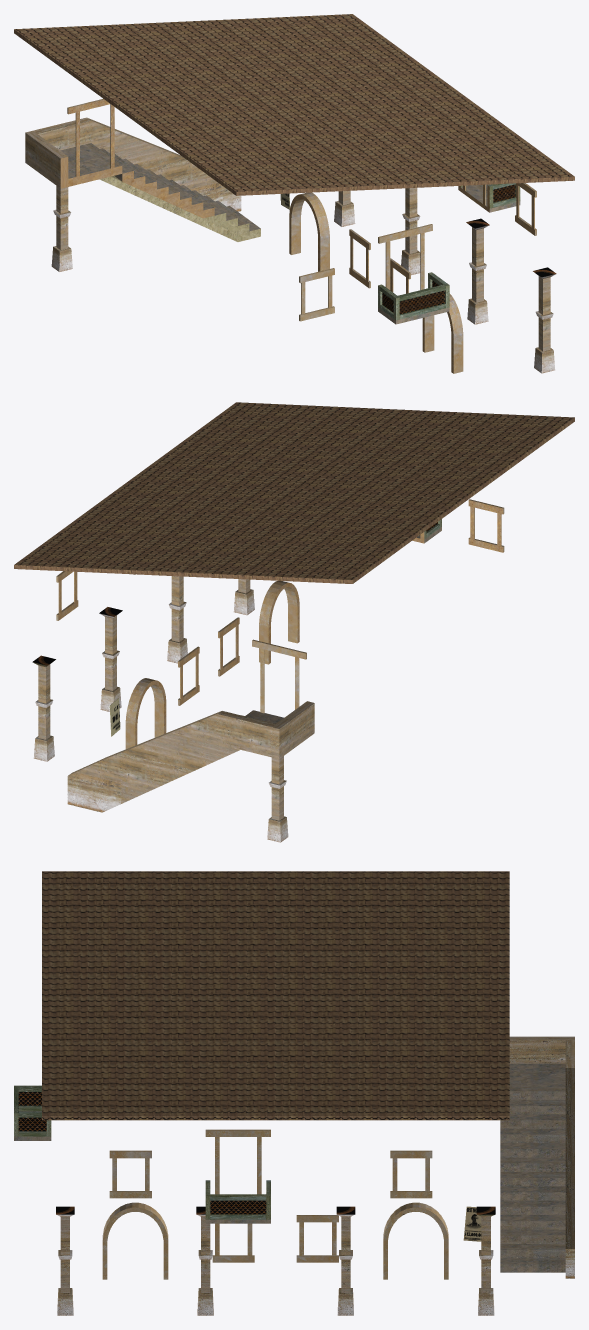
The model's file is StaticMesh10.fbx.
The picture shows the model from 3 angles, top to bottom: view 1: azimuth 30°, elevation 25°; view 2: azimuth 150°, elevation 25°; view 3: azimuth 270°, elevation 25°; orthographic projection. The views are drawn at different scales.
Visible parts, largest first — view 1: StaticMesh10; view 2: StaticMesh10; view 3: StaticMesh10.
Part boxes in pixels (bbox=[...]): StaticMesh10: bbox=[14, 14, 574, 373]; StaticMesh10: bbox=[14, 402, 574, 842]; StaticMesh10: bbox=[14, 871, 574, 1315].
Size of the model in its own units: 75202 by 52300 by 96002.
